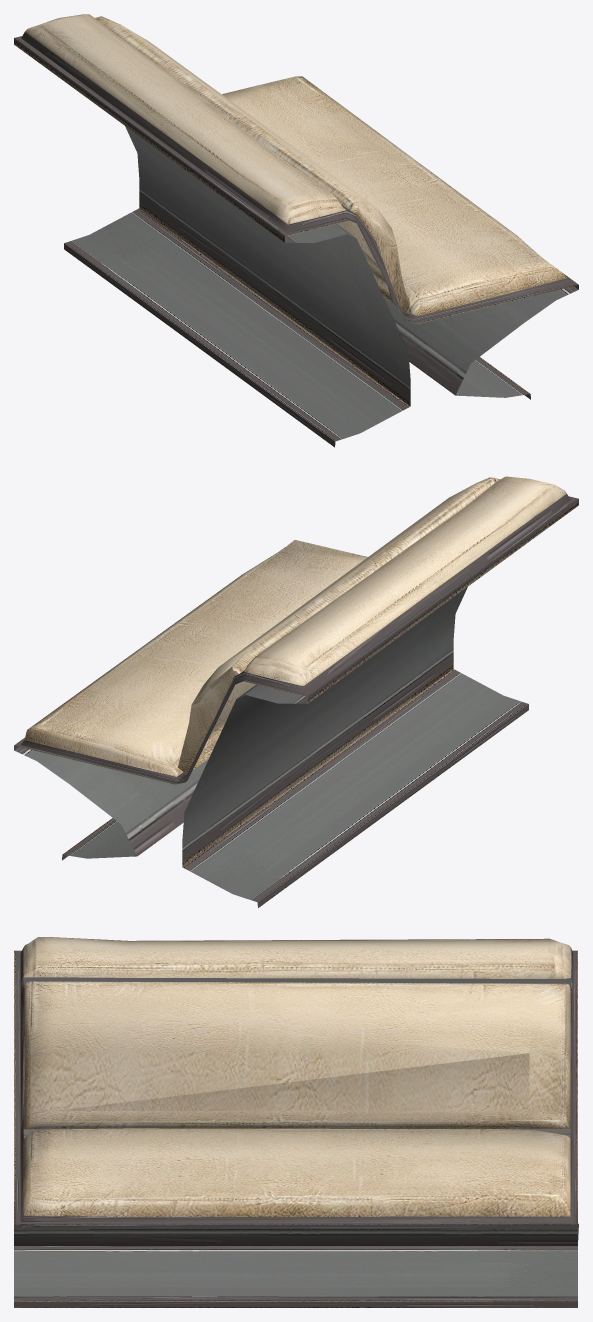
File: Neon_Seat_Straight_01.FBX
3 views of the same model, one above another, from view 1: azimuth 30°, elevation 25°; view 2: azimuth 150°, elevation 25°; view 3: azimuth 270°, elevation 25° (orthographic). The views are drawn at different scales.
Visible parts, largest first — view 1: Neon_Seat_Straight_01; view 2: Neon_Seat_Straight_01; view 3: Neon_Seat_Straight_01.
Part boxes in pixels (<box>): Neon_Seat_Straight_01: <box>14,14,578,447</box>; Neon_Seat_Straight_01: <box>14,476,578,907</box>; Neon_Seat_Straight_01: <box>14,937,578,1307</box>.
Size of the model in its own units: 1.25 by 0.9919 by 2.
